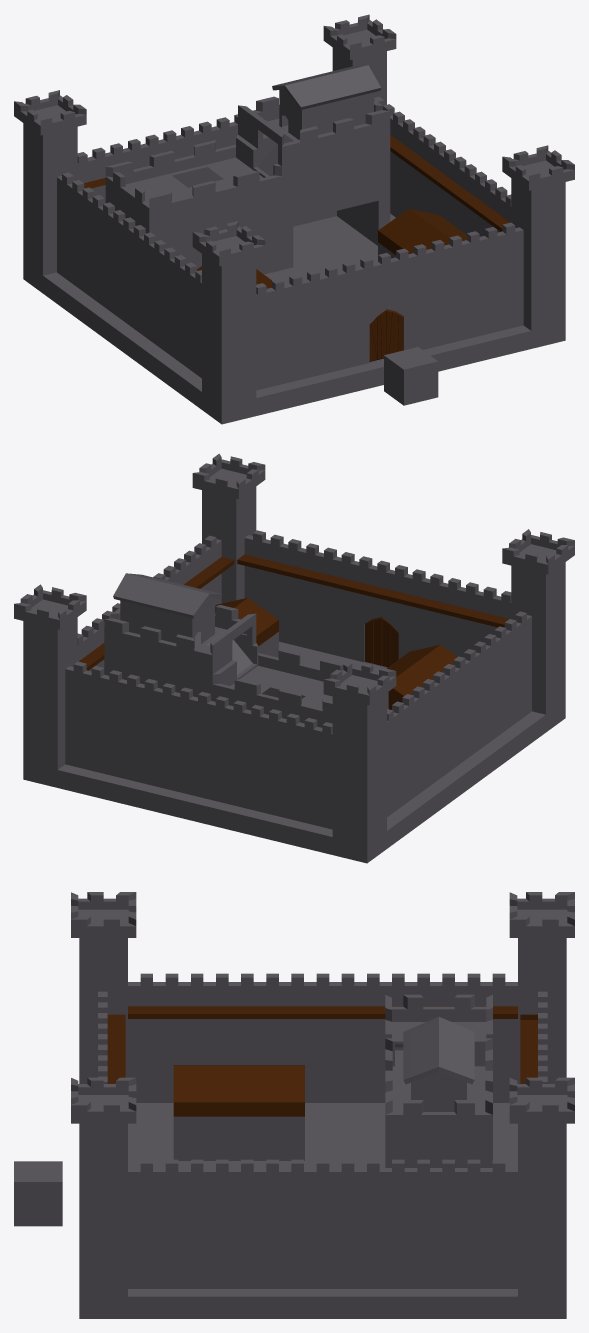
Rendered from castleWIP2.fbx.
3 views of the same model, one above another, from view 1: azimuth 30°, elevation 25°; view 2: azimuth 150°, elevation 25°; view 3: azimuth 270°, elevation 25° (orthographic). The views are drawn at different scales.
Visible parts, largest first — view 1: Most of the Castle, main building, Cube.010, wall ledge 1, Door; view 2: Most of the Castle, main building, wall ledge 2, Cube.008, Door, Cube.010, wall ledge 1; view 3: Most of the Castle, main building, Cube.008, side building 1, wall lede 3, wall ledge 2, wall ledge 4.
Part boxes in pixels (x1,y1,x2,y2): Most of the Castle: (14, 14, 574, 424); main building: (105, 65, 390, 274); Cube.010: (378, 208, 466, 254); wall ledge 1: (390, 135, 509, 231); Door: (369, 309, 403, 361); Most of the Castle: (14, 453, 574, 863); main building: (104, 573, 388, 727); wall ledge 2: (237, 554, 508, 627); Cube.008: (387, 645, 457, 709); Door: (365, 617, 398, 667); Cube.010: (215, 598, 278, 646); wall ledge 1: (79, 557, 234, 670); Most of the Castle: (14, 892, 574, 1318); main building: (385, 994, 492, 1167); Cube.008: (173, 1065, 304, 1116); side building 1: (173, 1116, 304, 1160); wall lede 3: (128, 1006, 517, 1018); wall ledge 2: (107, 1014, 125, 1083); wall ledge 4: (520, 1014, 537, 1083).
Bounding box in the file's own units: 10342 × 5019 × 11508.
